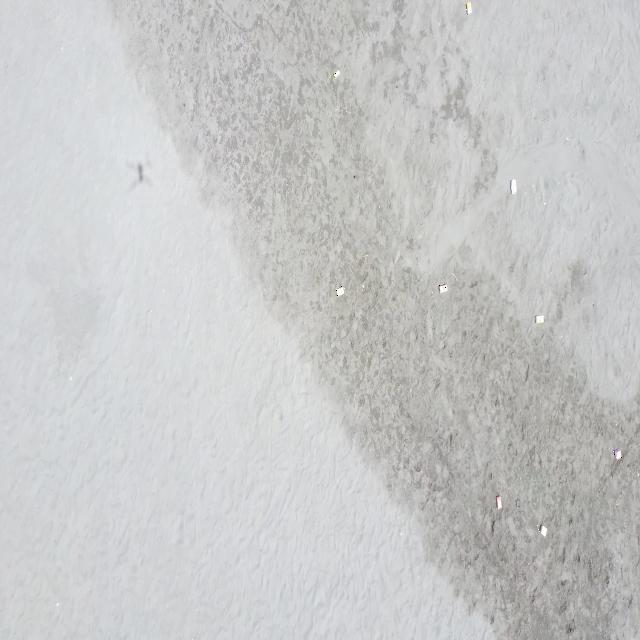Garbage: (612, 447, 620, 460), (495, 495, 502, 508), (539, 524, 547, 535), (437, 283, 447, 291), (464, 2, 471, 13), (336, 286, 344, 295), (510, 179, 515, 193), (535, 315, 543, 323), (332, 70, 340, 75)
